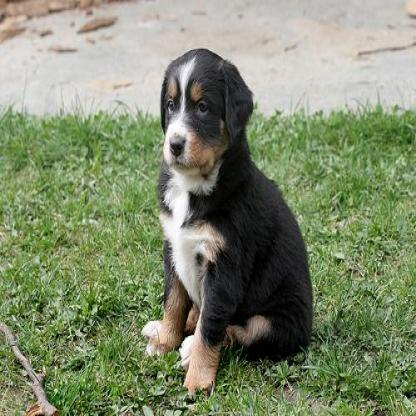Bernese_mountain_dog: (142, 47, 311, 390)
